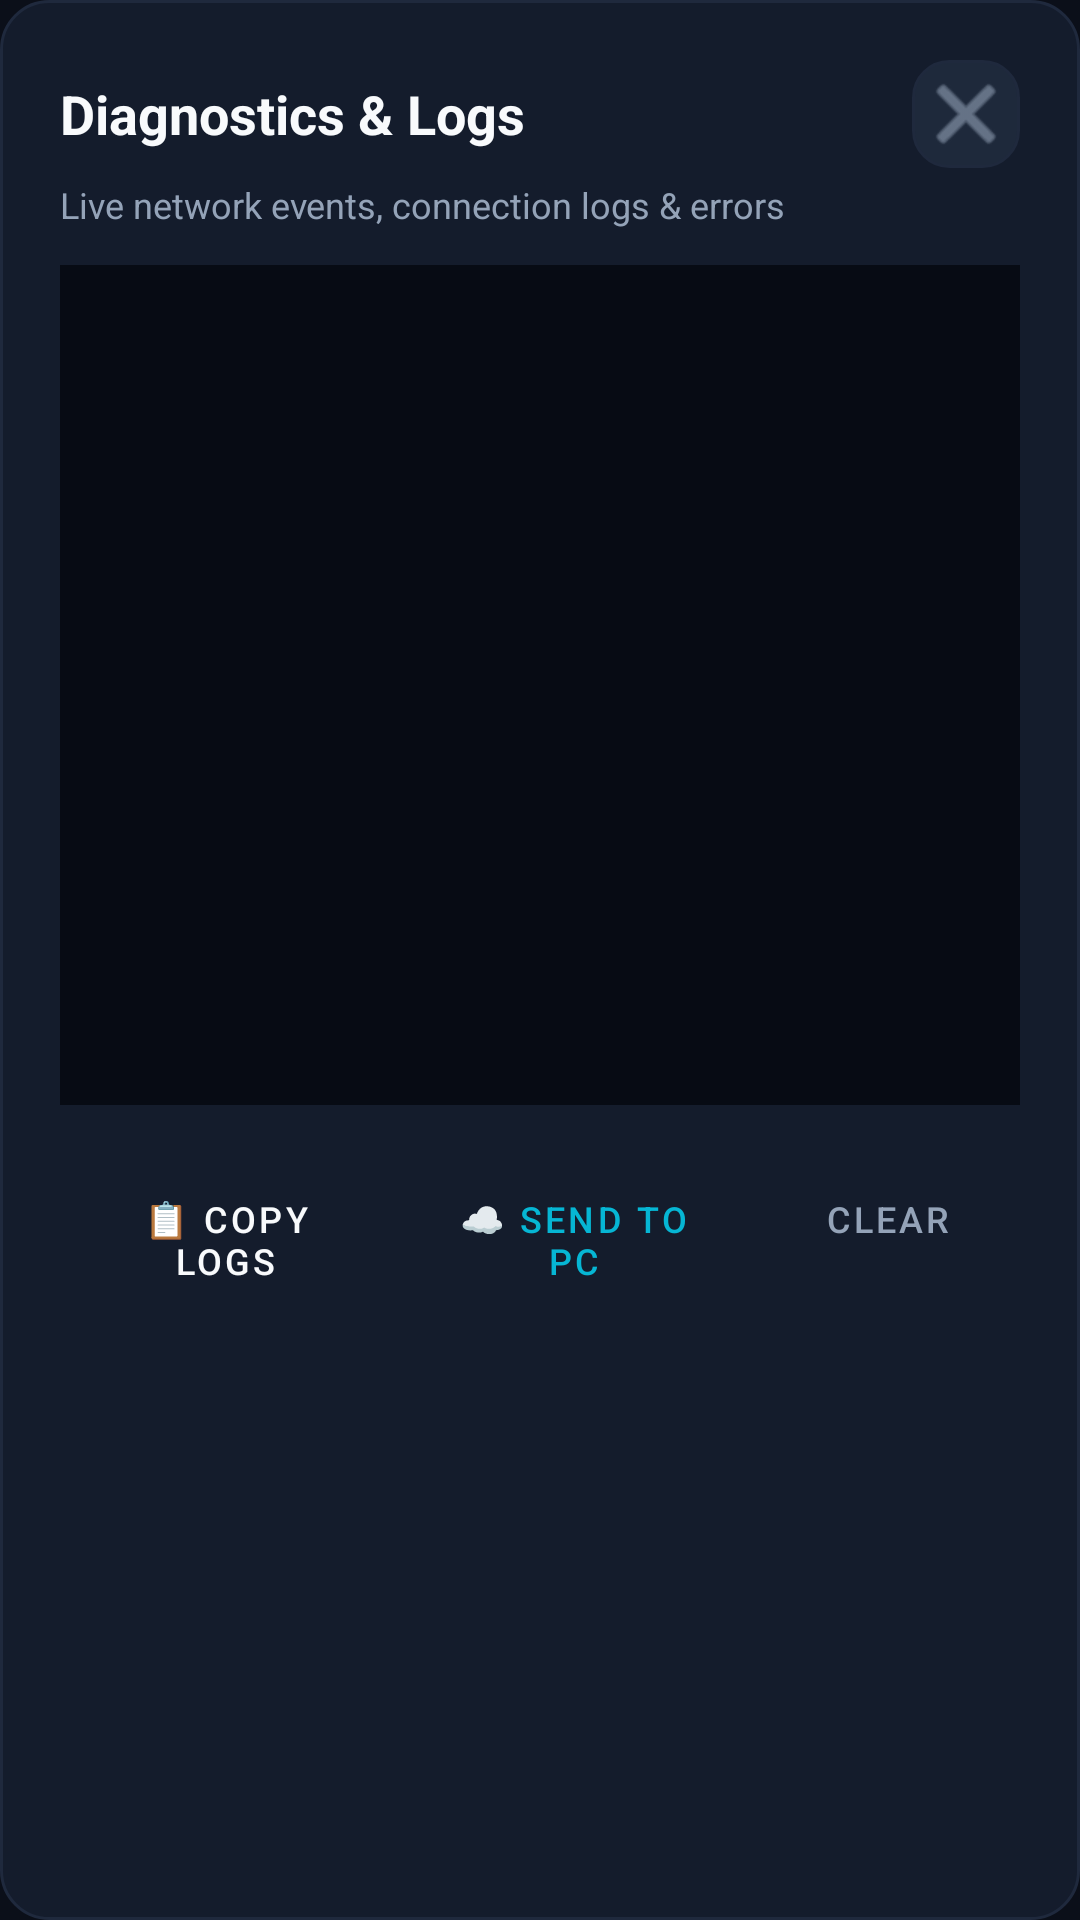

Where icons sit on this 1080*1920 app screen, as (x1, y1, x2, y2):
close clear cancel: (936, 84, 996, 144)
